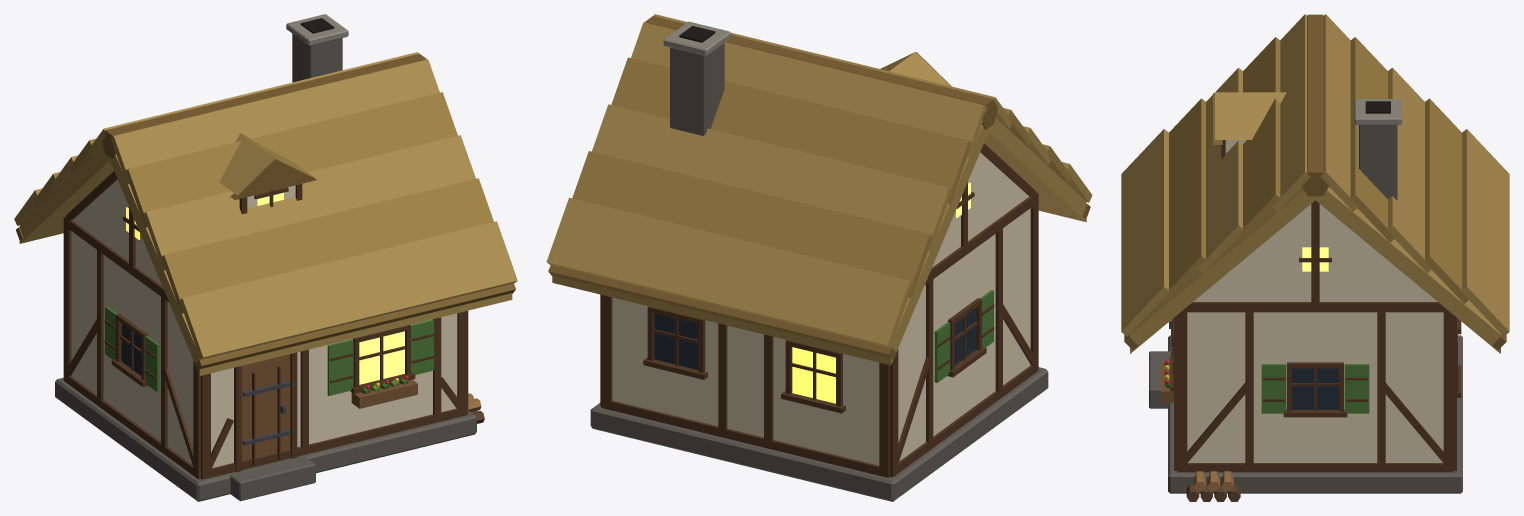
File: town_house_a.glb
3 views of the same model, side by side, from view 1: azimuth 30°, elevation 25°; view 2: azimuth 150°, elevation 25°; view 3: azimuth 270°, elevation 25° (orthographic). The views are drawn at different scales.
Parts seen in each view (by area): view 1: town_house_a; view 2: town_house_a; view 3: town_house_a.
Boxes of the visible parts, box(x1,y1,x2,y2) form: town_house_a: box(14, 14, 517, 501); town_house_a: box(546, 14, 1092, 501); town_house_a: box(1121, 14, 1509, 501).
Bounding box in the file's own units: 5.94 × 6.3 × 6.18.
